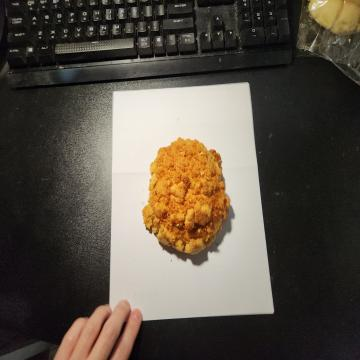soboru_bread: (143, 136, 227, 256)
